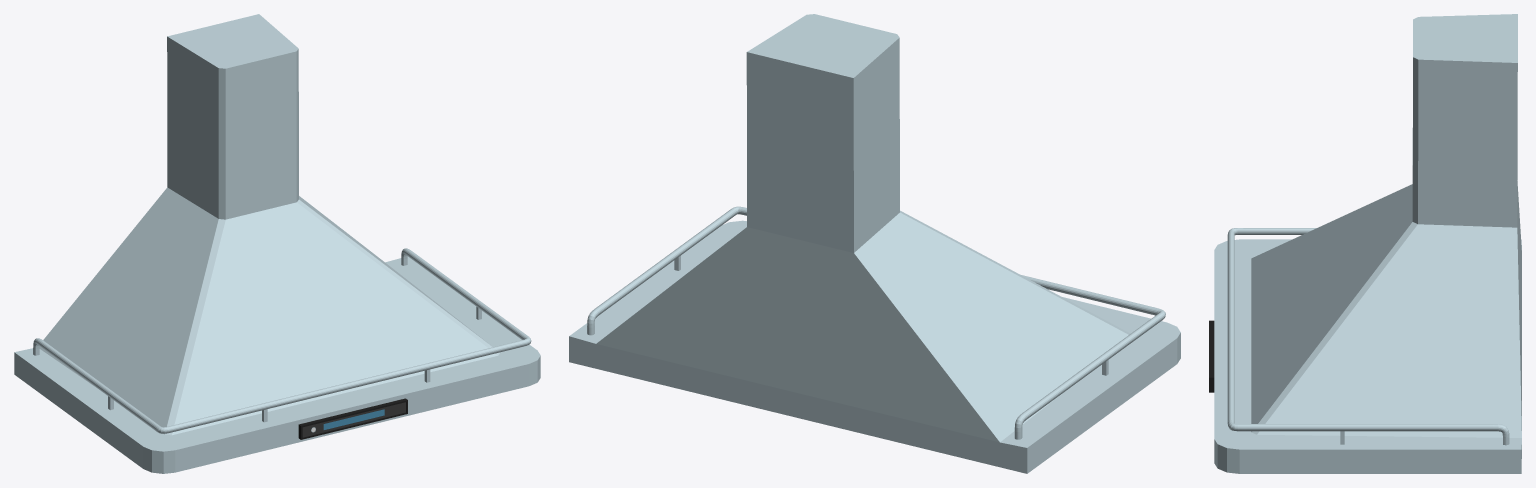
Rendered from oven2.glb.
3 renders of one model, left to right at view 1: azimuth 30°, elevation 25°; view 2: azimuth 150°, elevation 25°; view 3: azimuth 270°, elevation 25°, orthographic. The views are drawn at different scales.
Visible parts, largest first — view 1: Fan; view 2: Fan; view 3: Fan.
Boxes of the visible parts, <box> form: Fan: <box>14,14,540,473</box>; Fan: <box>569,14,1180,473</box>; Fan: <box>1209,14,1521,473</box>.
Bounding box in the file's own units: 79.86 × 58.71 × 50.27.
Materials: 1 (1 with a texture image).
